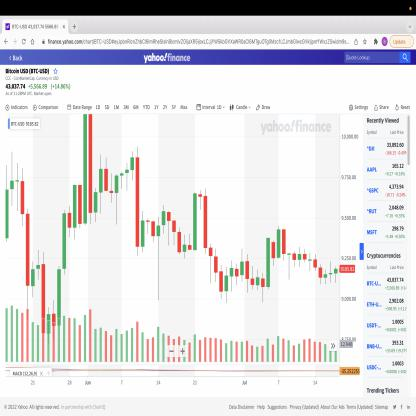Bearish: Evening Star Doji: (192, 186, 209, 254)
Bearish: Tweezer Top: (98, 151, 109, 217), (276, 222, 287, 262)
